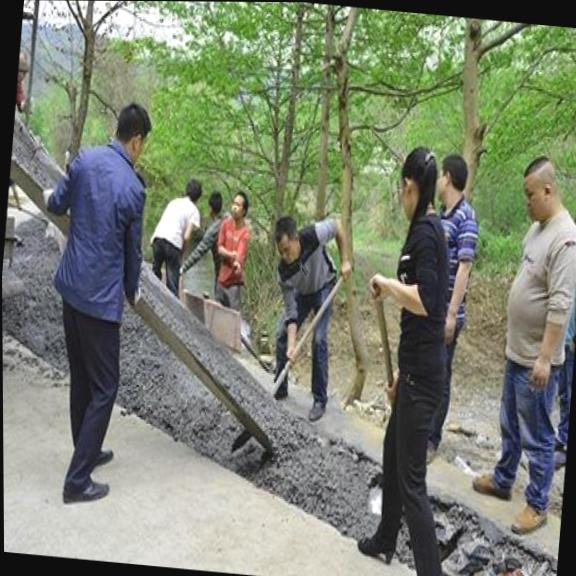no_safety_vest: (50, 138, 156, 324), (499, 207, 576, 377), (384, 209, 459, 380), (430, 195, 483, 338), (271, 211, 346, 308), (149, 192, 204, 256), (212, 216, 254, 291), (195, 212, 227, 291), (564, 245, 576, 362)
